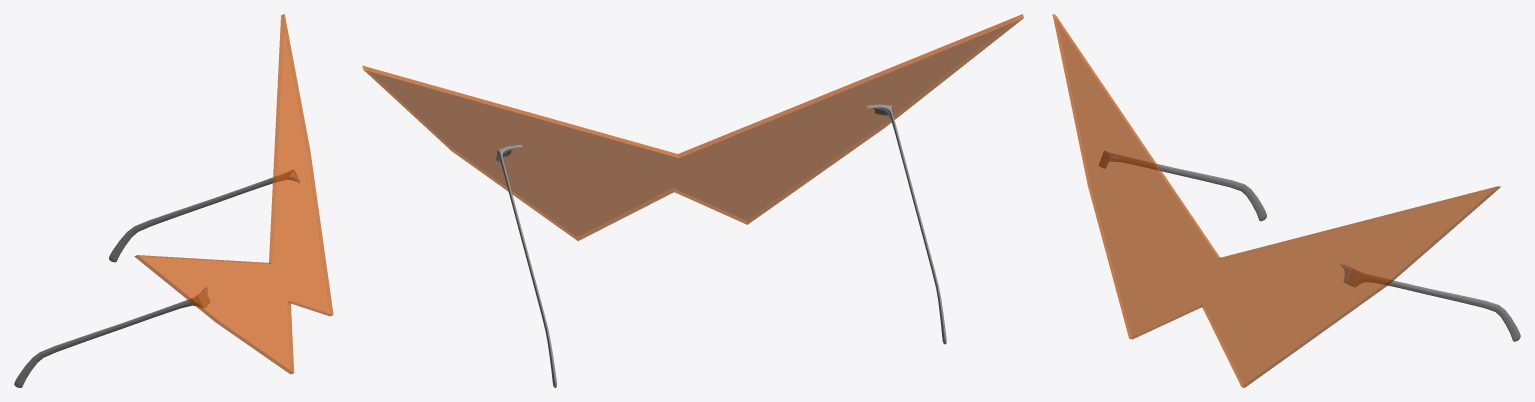
File: kamina_glasses.obj
3 views of the same model, side by side, from view 1: azimuth 30°, elevation 25°; view 2: azimuth 150°, elevation 25°; view 3: azimuth 270°, elevation 25° (orthographic). The views are drawn at different scales.
Visible parts, largest first — view 1: Объект_Ноль.2; view 2: Объект_Ноль.2; view 3: Объект_Ноль.2.
Part boxes in pixels (x1,y1,x2,y2): Объект_Ноль.2: [14, 14, 333, 387]; Объект_Ноль.2: [362, 14, 1023, 387]; Объект_Ноль.2: [1052, 14, 1520, 387].
Size of the model in its own units: 216 by 119 by 204.
